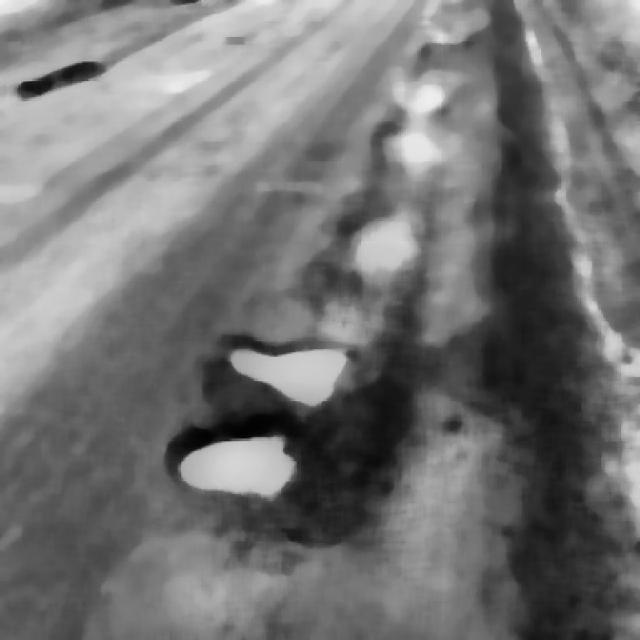Pothole: (207, 312, 322, 506)
